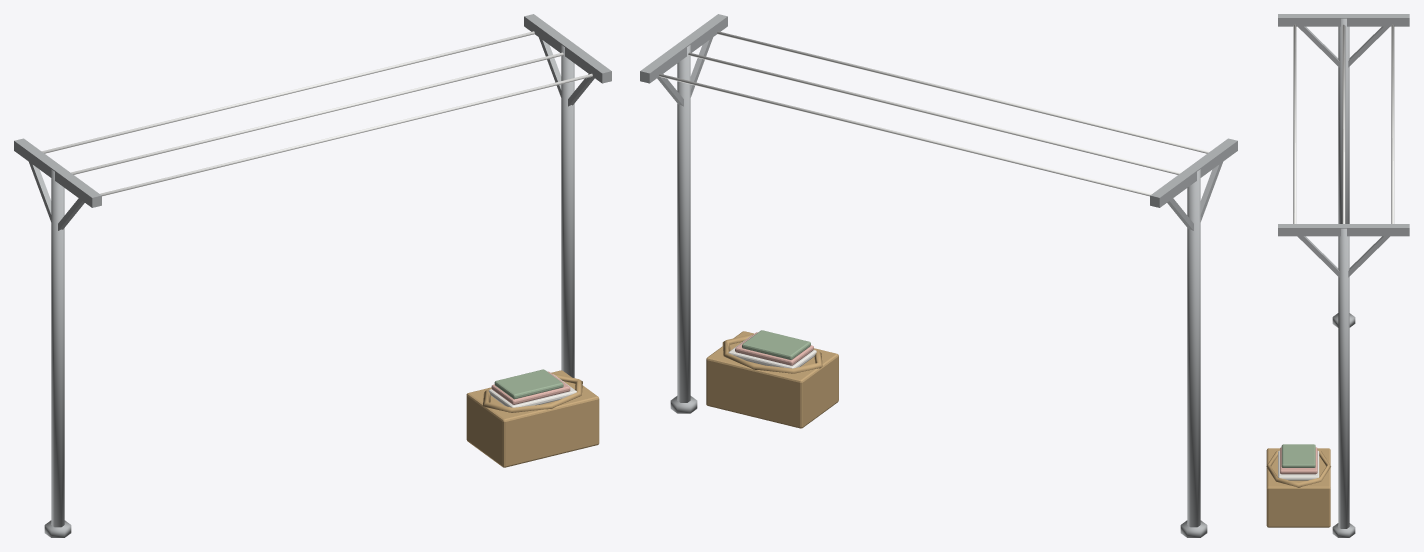
The model's file is clothesline.far.glb.
3 renders of one model, left to right at view 1: azimuth 30°, elevation 25°; view 2: azimuth 150°, elevation 25°; view 3: azimuth 270°, elevation 25°, orthographic. The views are drawn at different scales.
Parts seen in each view (by area): view 1: clothesline; view 2: clothesline; view 3: clothesline.
Part boxes in pixels (x1,y1,x2,y2): clothesline: (14, 14, 611, 537); clothesline: (640, 14, 1237, 537); clothesline: (1266, 14, 1409, 537).
Size of the model in its own units: 2.74 by 1.8 by 0.7628.
